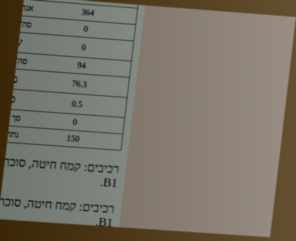carbs: (76, 59, 88, 71)
energy: (80, 6, 96, 19)
fat: (82, 23, 90, 35)
protein: (71, 116, 79, 128)
